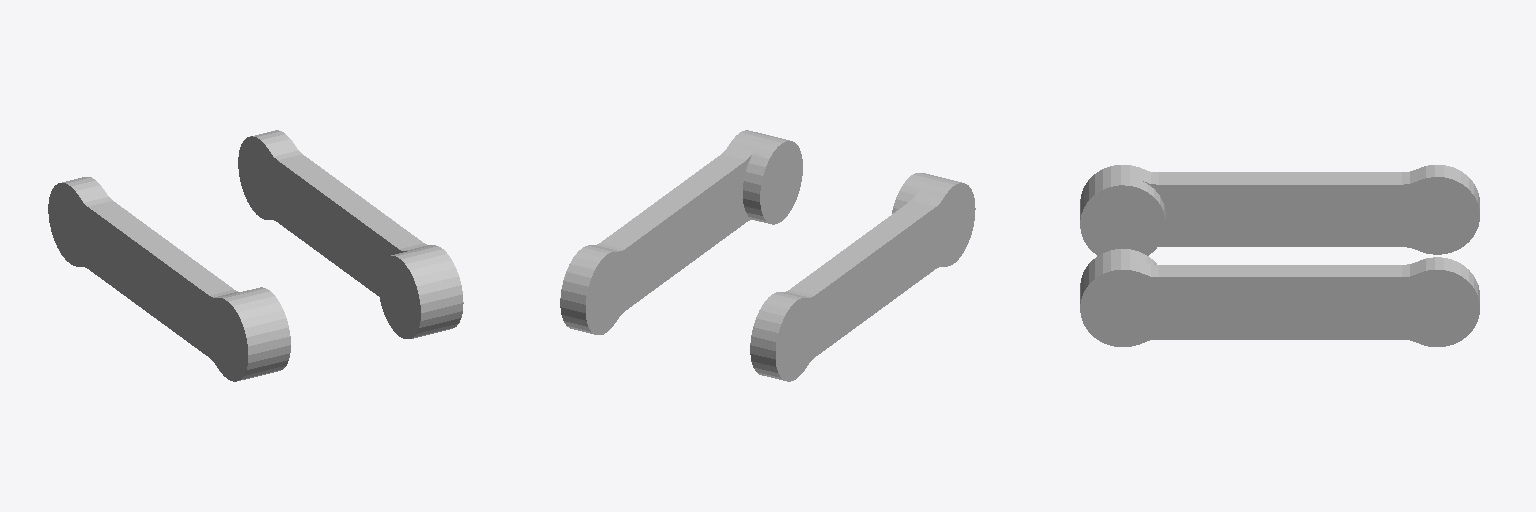
File: bucket_linkage_2.obj
3 renders of one model, left to right at view 1: azimuth 30°, elevation 25°; view 2: azimuth 150°, elevation 25°; view 3: azimuth 270°, elevation 25°, orthographic.
Parts seen in each view (by area): view 1: mesh 1 bucket_linkage_2; view 2: mesh 1 bucket_linkage_2; view 3: mesh 1 bucket_linkage_2.
Part boxes in pixels (x1,y1,x2,y2): mesh 1 bucket_linkage_2: (48,130,463,381); mesh 1 bucket_linkage_2: (560,130,975,381); mesh 1 bucket_linkage_2: (1080,165,1479,346).
Bounding box in the file's own units: 0.49 × 0.1698 × 0.7895.